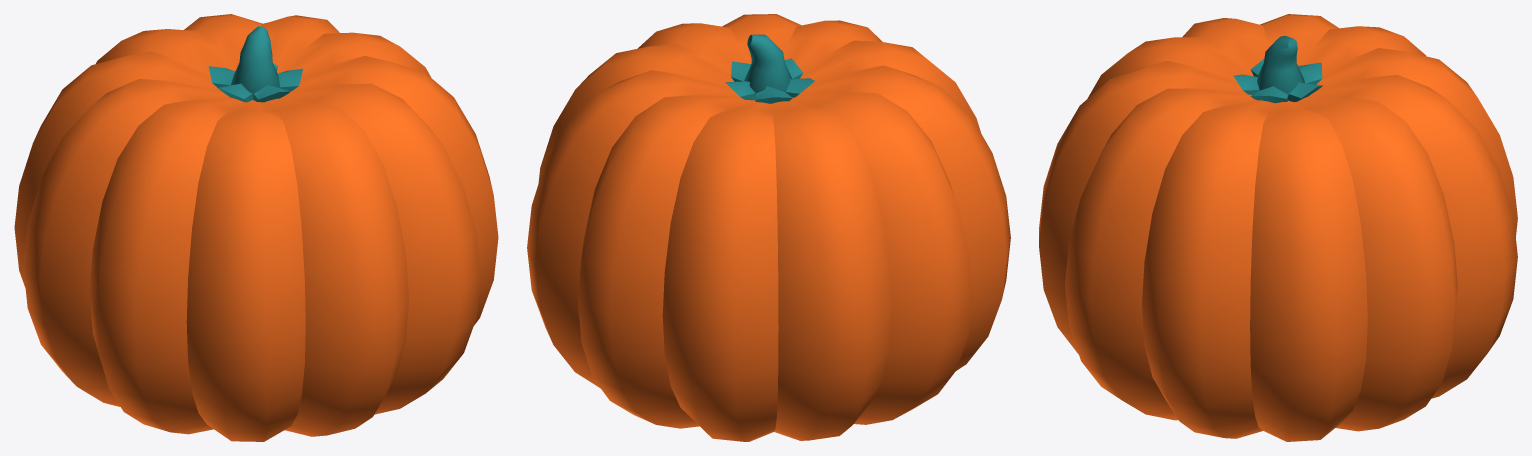
The model's file is pumpkinLarge.glb.
3 views of the same model, side by side, from view 1: azimuth 30°, elevation 25°; view 2: azimuth 150°, elevation 25°; view 3: azimuth 270°, elevation 25° (orthographic).
Parts seen in each view (by area): view 1: pumpkinLarge; view 2: pumpkinLarge; view 3: pumpkinLarge.
Boxes of the visible parts, bbox=[...] form: pumpkinLarge: bbox=[14, 14, 498, 441]; pumpkinLarge: bbox=[527, 14, 1010, 441]; pumpkinLarge: bbox=[1039, 14, 1517, 441].
Size of the model in its own units: 0.9611 by 0.7811 by 0.9513.
